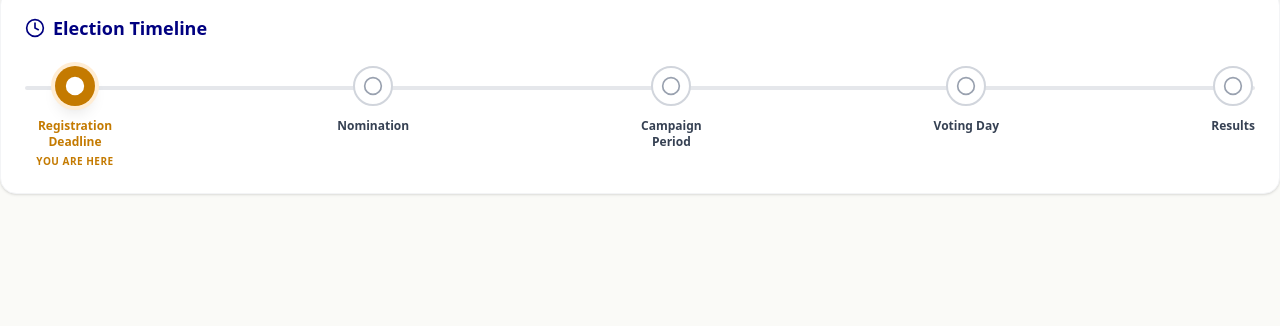
Test: Timeline Component › renders timeline phases and allows clicking to load explanation
This screenshot has width=1280, height=326.
Expected: the heading "Election Timeline" is shown, [25,16,207,40]
What coordinates should you click on to do the following:
click the button "Registration Deadline You are here"
I would click on:
 (75, 117)
Its box is [36,66,114,168].
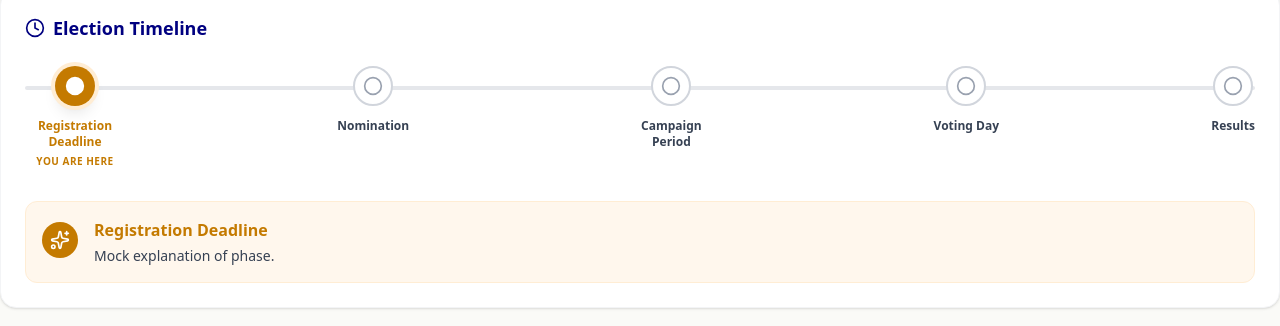
Now the text "Mock explanation of phase." is shown, box [94,246,274,266]
Click again to close
What coordinates should you click on to do the following:
click the button "Registration Deadline You are here"
I would click on:
 (75, 117)
Its box is [36,66,114,168].
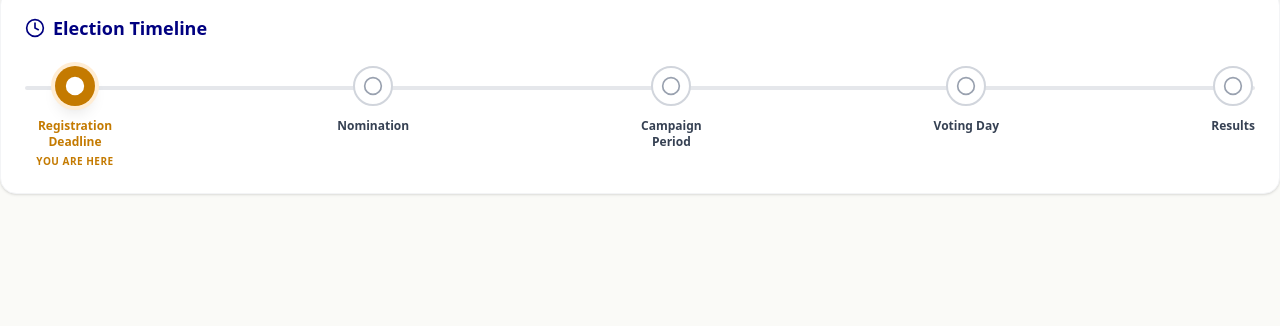
Now the text "Mock explanation of phase." is gone
